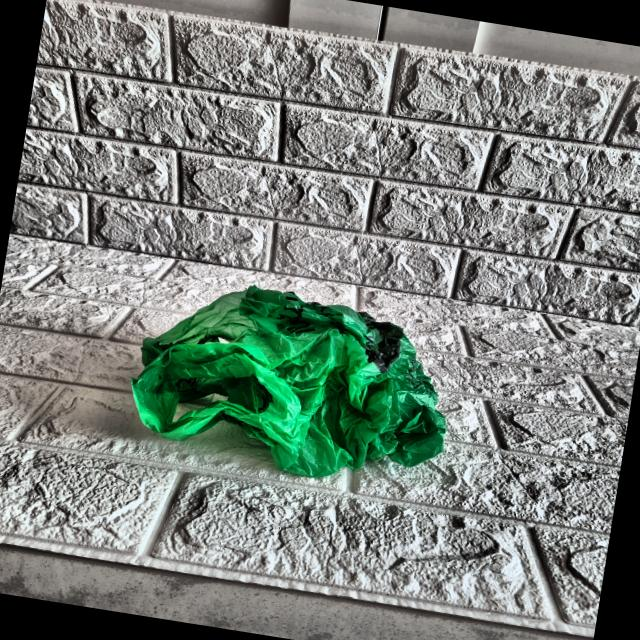plastic bag: (116, 263, 466, 501)
